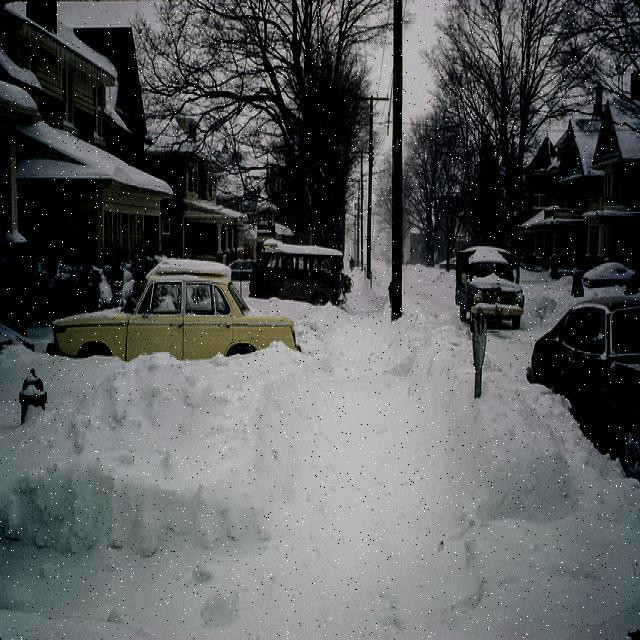fire_hydrant: (20, 367, 44, 425)
